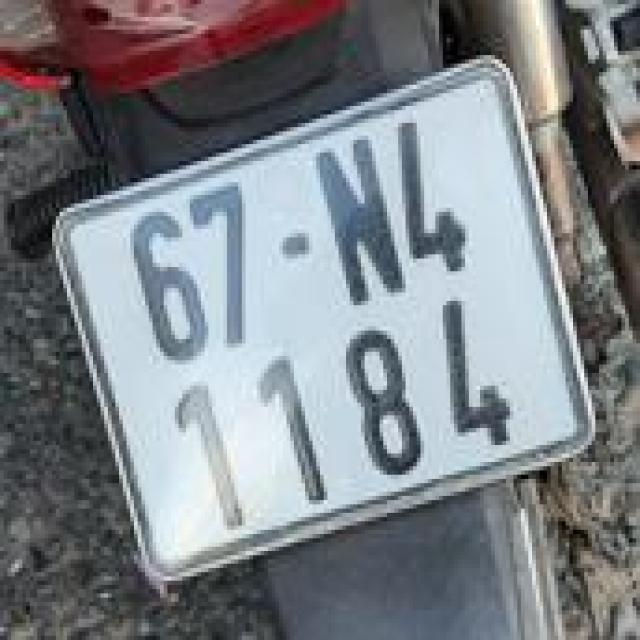1: (239, 342, 349, 519), (154, 371, 264, 547)
4: (427, 285, 528, 472), (387, 110, 484, 292)
6: (113, 199, 220, 381)
7: (178, 172, 268, 362)
8: (323, 309, 442, 495)
N: (303, 127, 422, 324)
